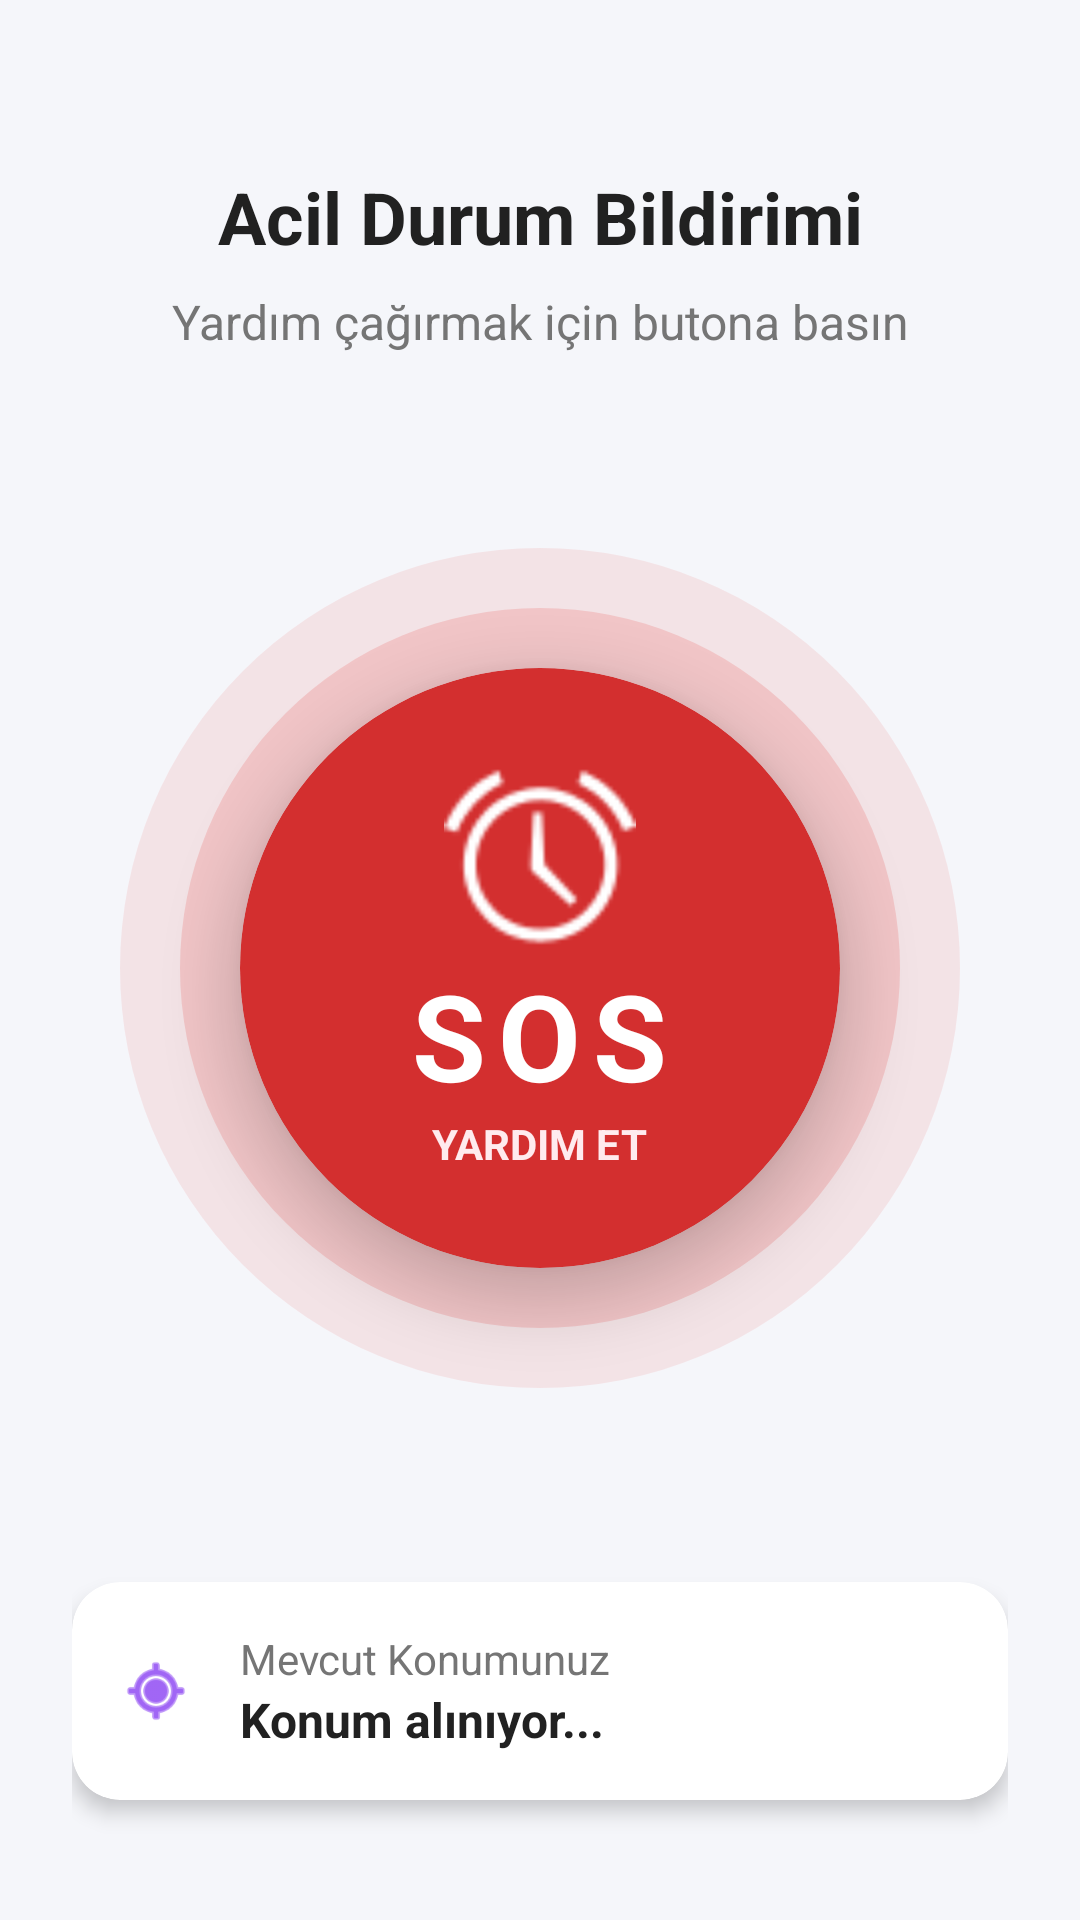

Icon click points for this 1080 × 1920 phone screenshot, format [x,y]:
Alarm İkonu: [540,857]
mylocation: [156,1691]
